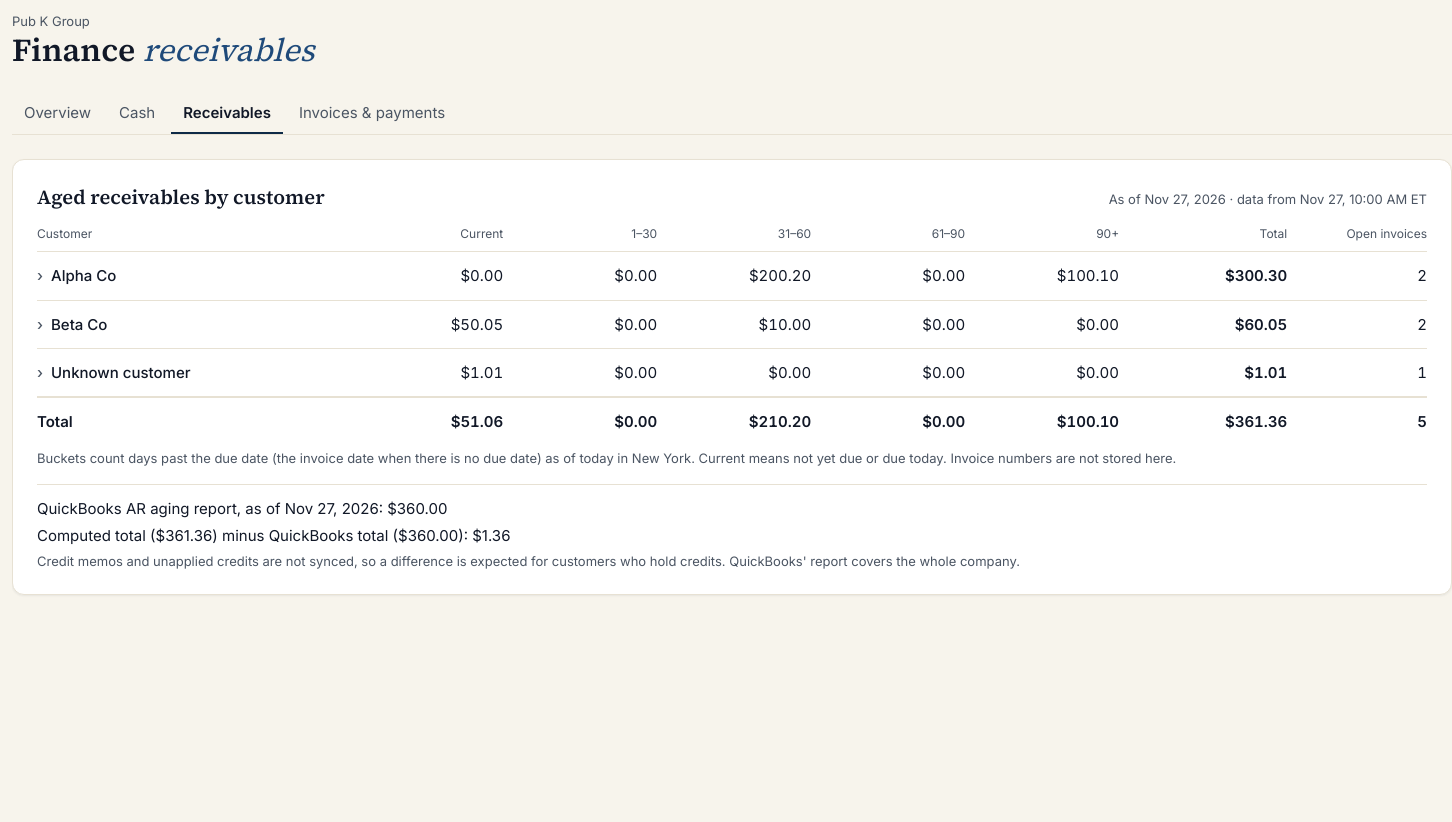
it: Receivables tab › the column names are reachable by role: a table with column headers, a row header per customer and cells
The image size is (1452, 822).
Step 1. Click the button "› Alpha Co" → coordinates (77, 276), box top-left (37, 264), bottom-right (116, 288)
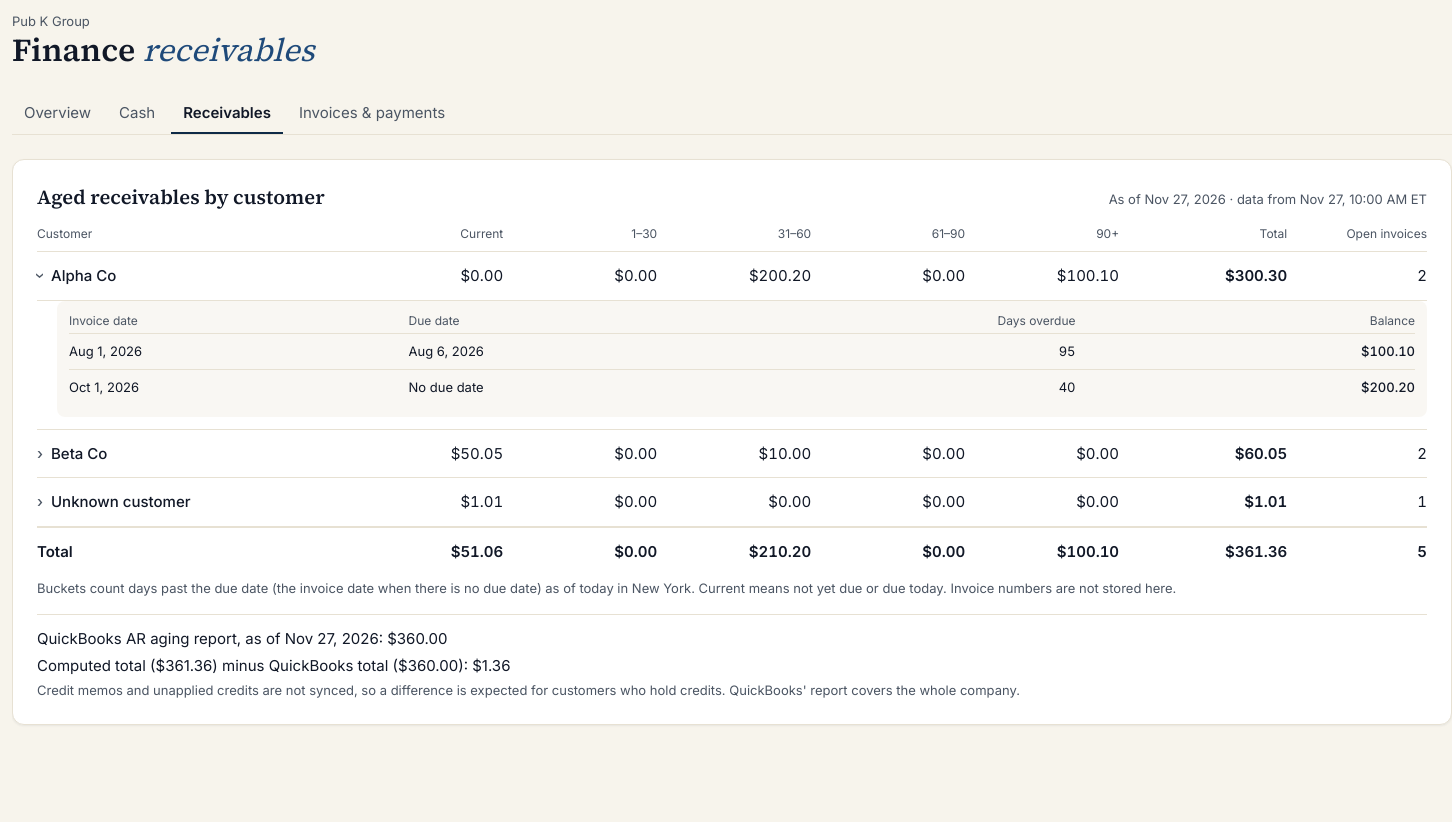
Expected: the column headings read "Invoice date", "Due date", "Days overdue", "Balance", in this order, top-left (69, 312), bottom-right (138, 328); top-left (408, 312), bottom-right (460, 328); top-left (998, 312), bottom-right (1076, 328); top-left (1370, 312), bottom-right (1415, 328)
